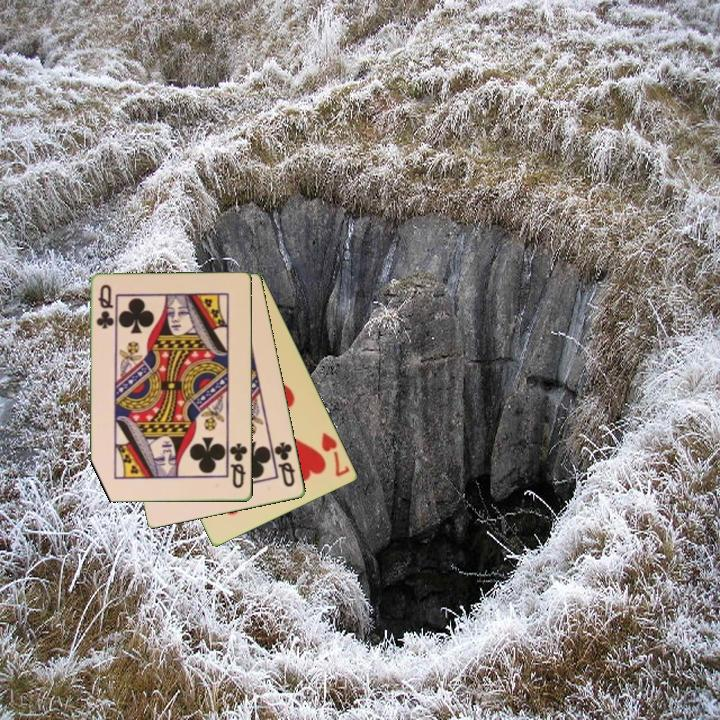7h: (318, 429, 353, 480)
Qc: (271, 438, 298, 490), (226, 440, 251, 491), (93, 281, 116, 332)
